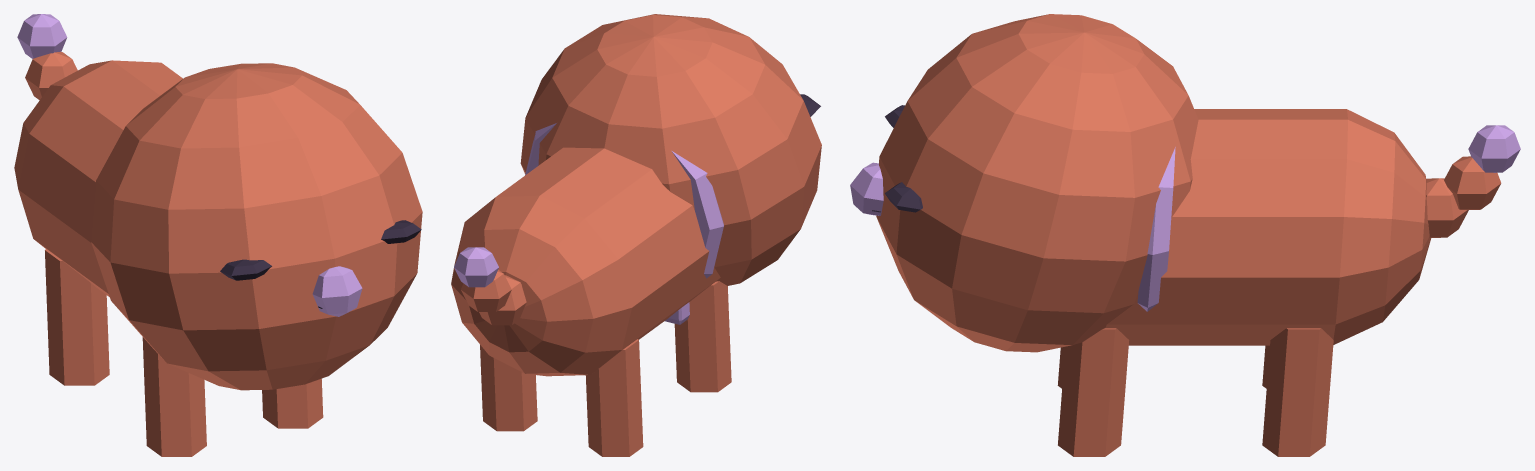
The model's file is bean-park-1.glb.
The picture shows the model from 3 angles, left to right: view 1: azimuth 30°, elevation 25°; view 2: azimuth 150°, elevation 25°; view 3: azimuth 270°, elevation 25°; orthographic projection. The views are drawn at different scales.
Parts seen in each view (by area): view 1: bean-park-1; view 2: bean-park-1; view 3: bean-park-1.
Part boxes in pixels (x1,y1,x2,y2): bean-park-1: (14,14,422,456); bean-park-1: (451,14,821,456); bean-park-1: (850,14,1520,456).
Size of the model in its own units: 0.5887 by 0.7 by 1.11.
